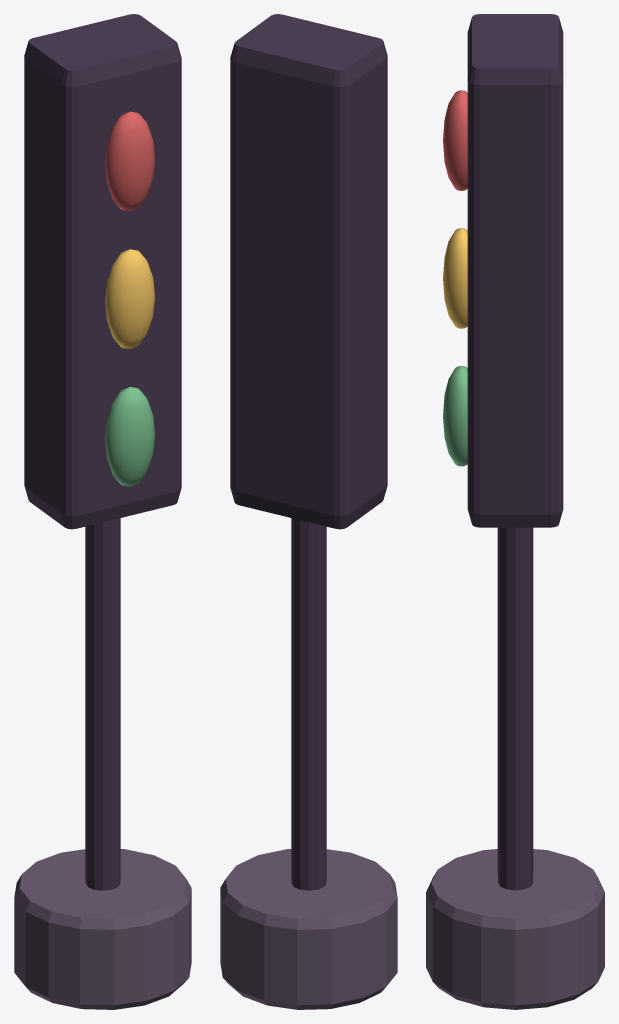
Rendered from traffic_light.glb.
3 views of the same model, side by side, from view 1: azimuth 30°, elevation 25°; view 2: azimuth 150°, elevation 25°; view 3: azimuth 270°, elevation 25° (orthographic).
Parts seen in each view (by area): view 1: light_case, model, amber, green, red; view 2: light_case, model; view 3: light_case, model, red, green, amber.
Part boxes in pixels (x1,y1,x2,y2): light_case: (24, 14, 181, 529); model: (14, 518, 191, 1009); amber: (105, 249, 154, 348); green: (105, 387, 154, 486); red: (105, 111, 154, 211); light_case: (230, 14, 387, 529); model: (220, 518, 397, 1009); light_case: (467, 14, 563, 527); model: (426, 527, 604, 1009); red: (443, 90, 467, 190); green: (443, 366, 467, 466); amber: (443, 228, 467, 328).
Bounding box in the file's own units: 0.33 × 1.9 × 0.33.
